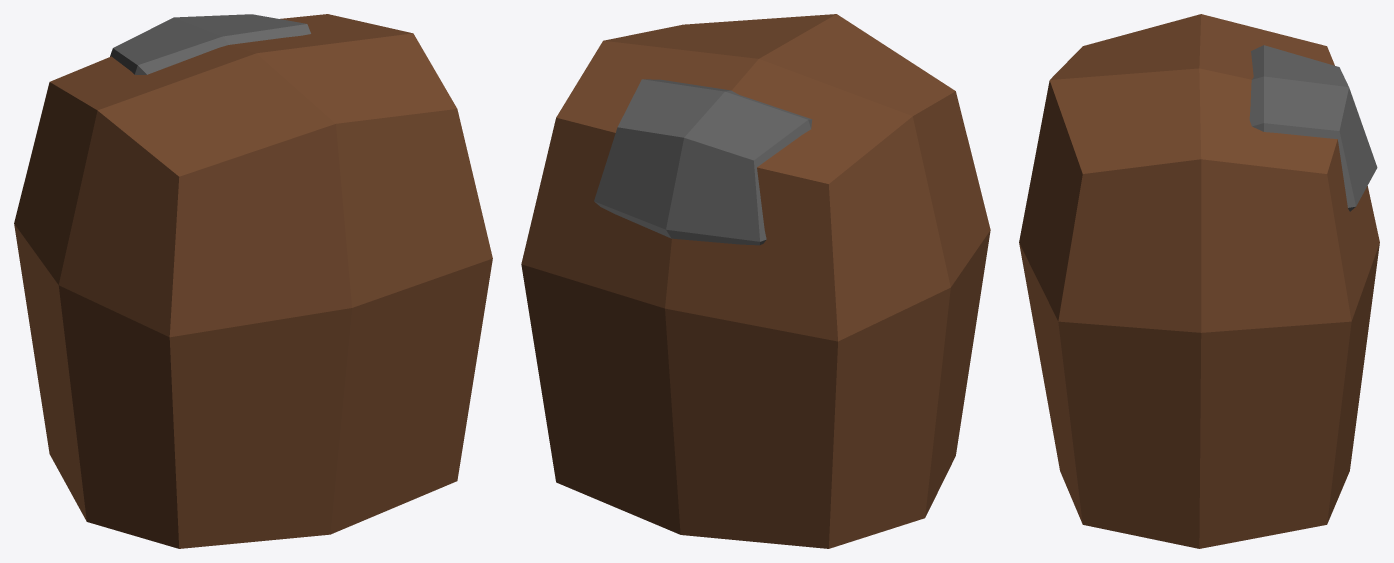
Rendered from pouch.glb.
3 renders of one model, left to right at view 1: azimuth 30°, elevation 25°; view 2: azimuth 150°, elevation 25°; view 3: azimuth 270°, elevation 25°, orthographic. The views are drawn at different scales.
Parts seen in each view (by area): view 1: Cube, Cube.001; view 2: Cube, Cube.001; view 3: Cube, Cube.001.
Boxes of the visible parts, <box> form: Cube: <box>14,14,492,548</box>; Cube.001: <box>110,14,310,74</box>; Cube: <box>521,14,990,548</box>; Cube.001: <box>594,79,812,245</box>; Cube: <box>1019,14,1379,548</box>; Cube.001: <box>1249,45,1377,211</box>.
Bounding box in the file's own units: 1.41 × 1.53 × 1.19.
